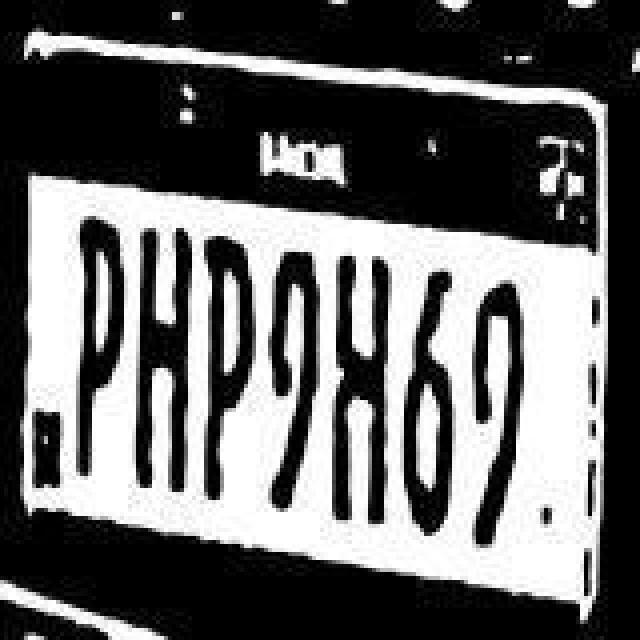6: (400, 234, 464, 550)
9: (268, 222, 324, 530), (470, 252, 522, 572)
H: (330, 230, 390, 530), (132, 210, 188, 518)
P: (198, 218, 258, 534), (68, 208, 124, 496)
